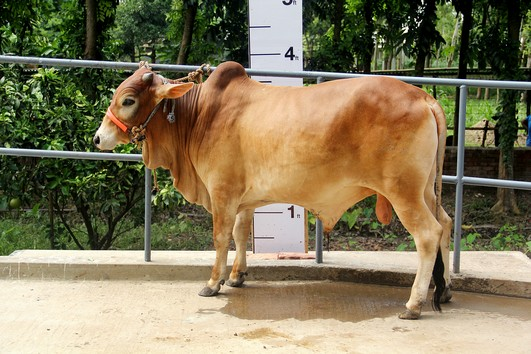cow: (89, 53, 464, 327)
